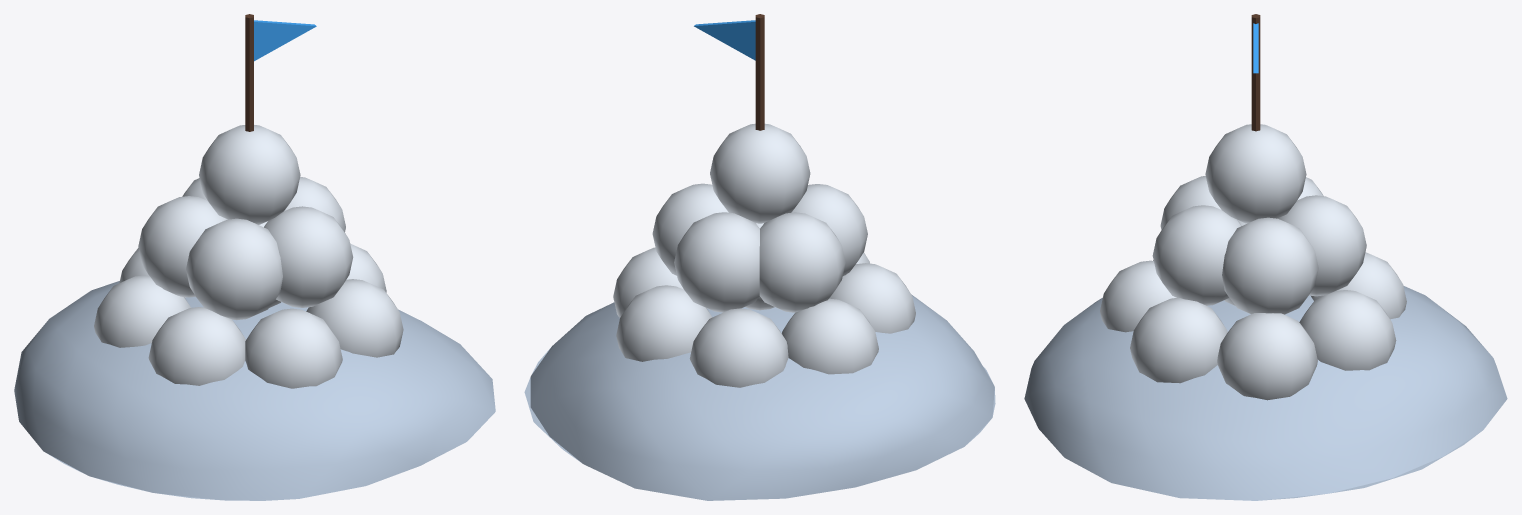
File: snow_pile.glb
3 views of the same model, side by side, from view 1: azimuth 30°, elevation 25°; view 2: azimuth 150°, elevation 25°; view 3: azimuth 270°, elevation 25° (orthographic).
Visible parts, largest first — view 1: snow_pile; view 2: snow_pile; view 3: snow_pile.
Boxes of the visible parts, left/top/right/bottom form: snow_pile: left=14, top=14, right=495, bottom=500; snow_pile: left=524, top=14, right=995, bottom=500; snow_pile: left=1024, top=14, right=1507, bottom=500.
Size of the model in its own units: 1.89 by 1.67 by 1.91.
